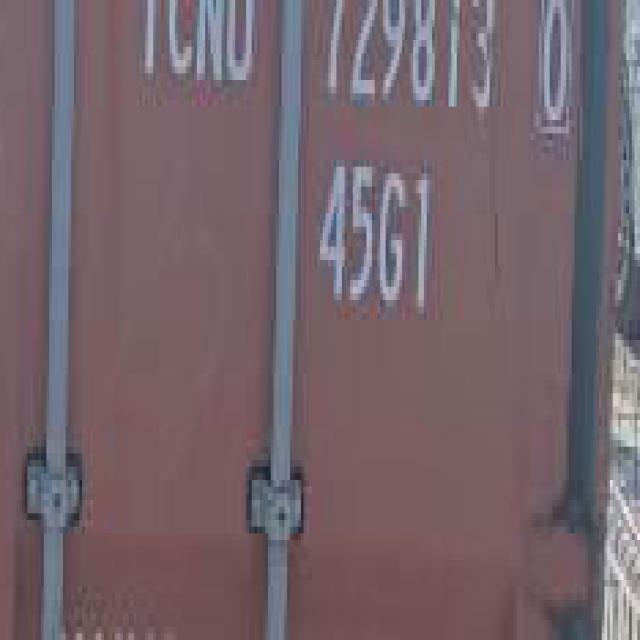dv: (517, 0, 577, 153)
owner: (124, 0, 265, 105)
serial: (311, 0, 494, 131)
size: (306, 142, 444, 336)
